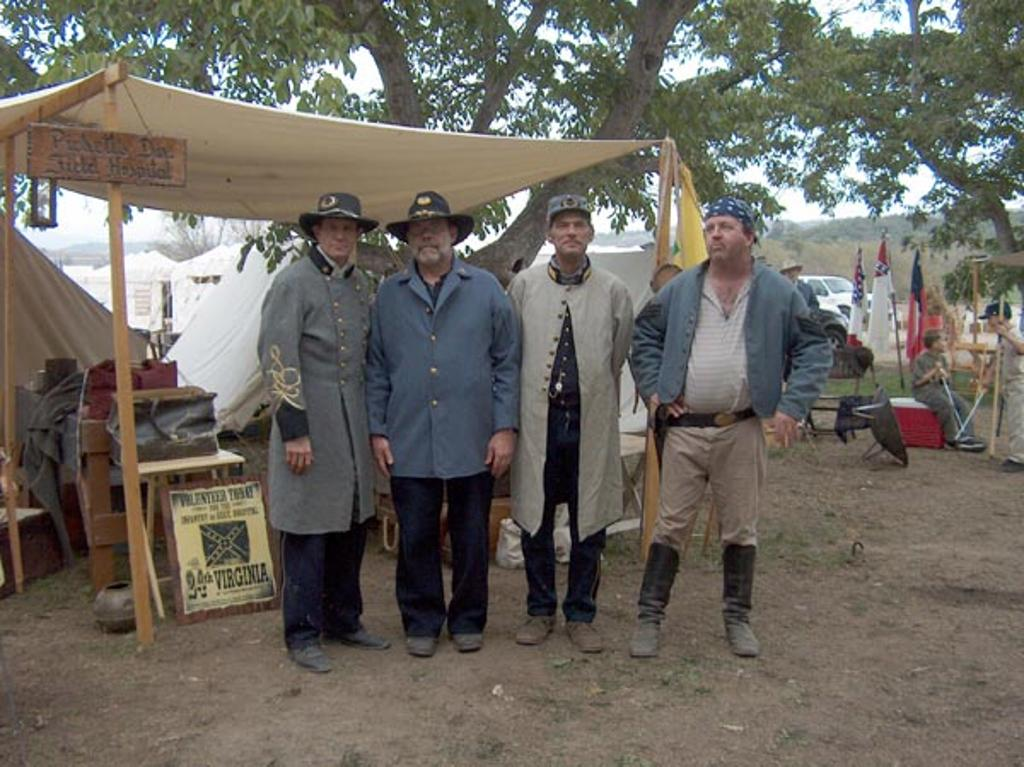face: (408, 213, 451, 264), (705, 210, 745, 261), (320, 213, 357, 261), (552, 209, 589, 255), (785, 266, 797, 278), (987, 313, 998, 326), (937, 334, 945, 350)
